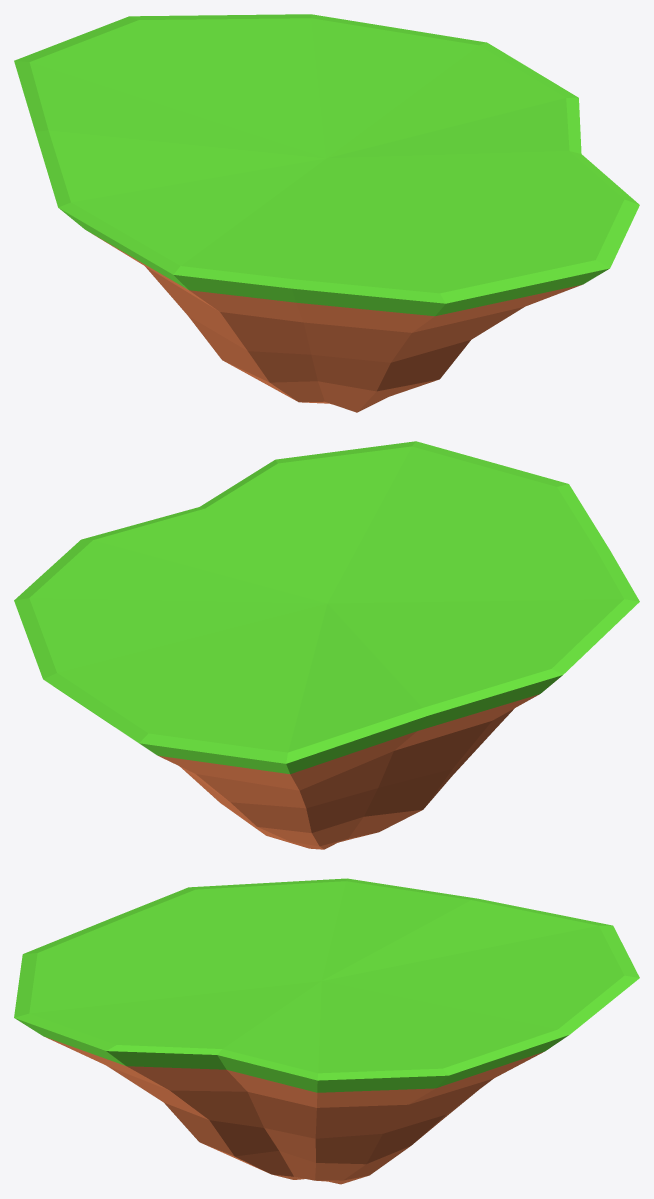
File: Island7.fbx
3 views of the same model, one above another, from view 1: azimuth 30°, elevation 25°; view 2: azimuth 150°, elevation 25°; view 3: azimuth 270°, elevation 25° (orthographic). The views are drawn at different scales.
Parts seen in each view (by area): view 1: Island 7; view 2: Island 7; view 3: Island 7.
Part boxes in pixels (x1=…): Island 7: x1=14, y1=14, x2=639, y2=412; Island 7: x1=14, y1=441, x2=639, y2=849; Island 7: x1=14, y1=878, x2=639, y2=1184.
Bounding box in the file's own units: 1642 × 767 × 2147.
